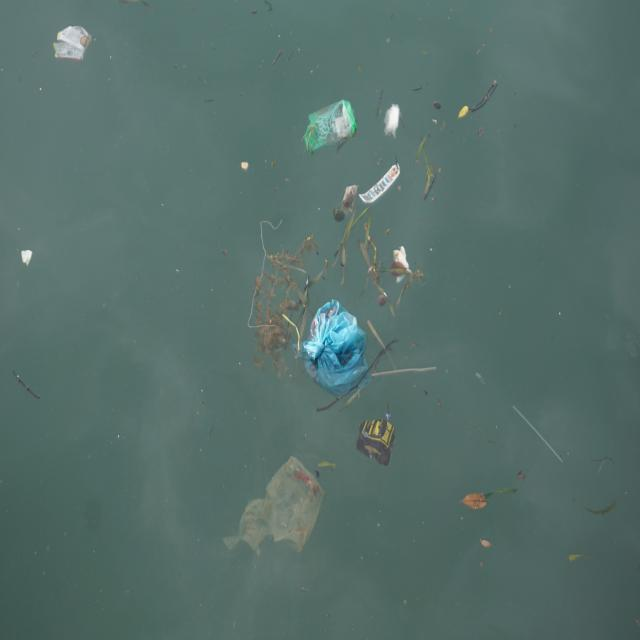Bungkus Makanan: (298, 92, 359, 161), (51, 14, 97, 74)
Bungkus Minuman: (359, 409, 397, 473)
Kantong Plastik: (220, 453, 326, 565), (304, 294, 371, 406)
